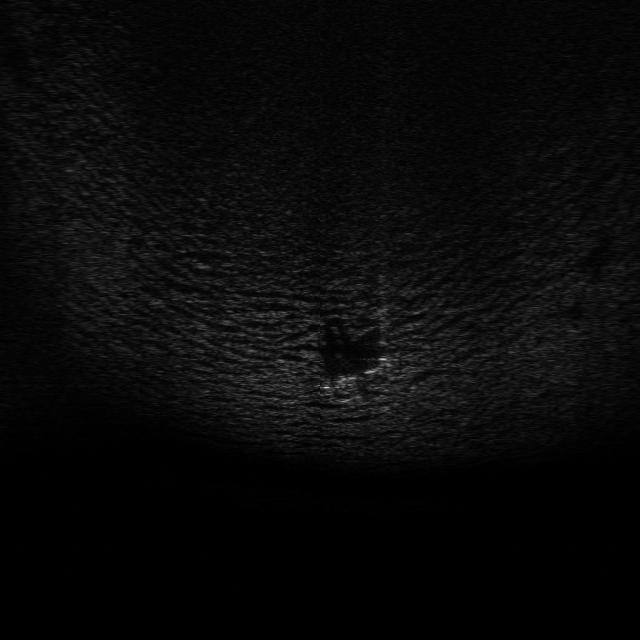plane: (316, 362, 386, 402)
